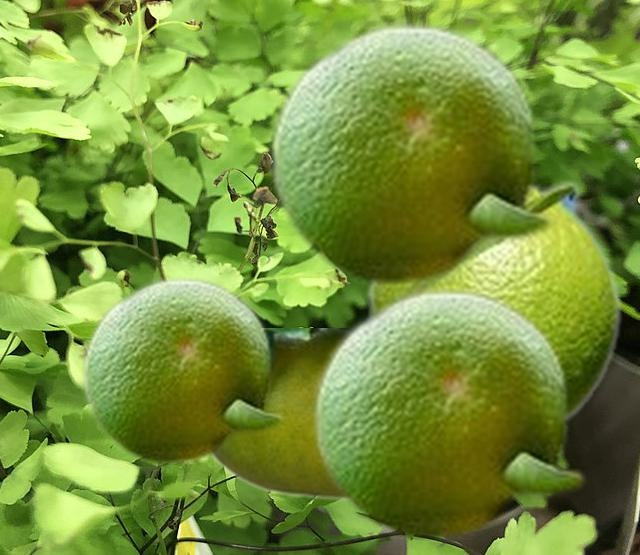dalandan: (266, 17, 557, 286), (309, 283, 588, 541), (359, 174, 623, 422), (79, 273, 286, 465), (212, 328, 341, 499)
